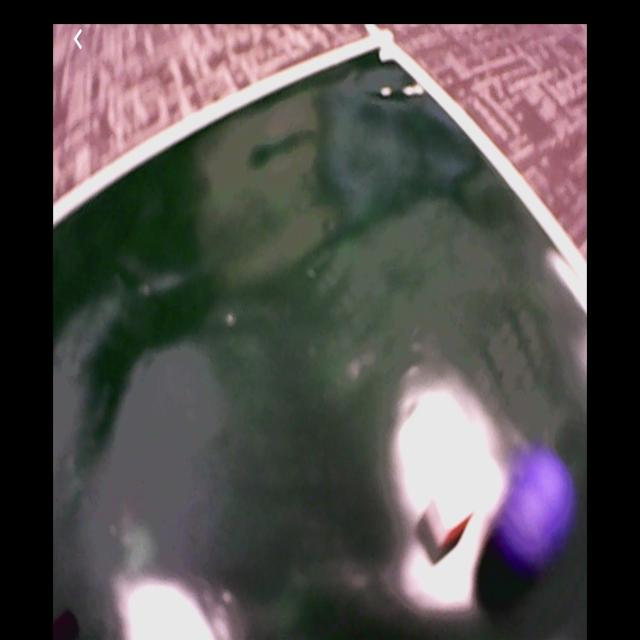ball: (499, 454, 576, 561)
